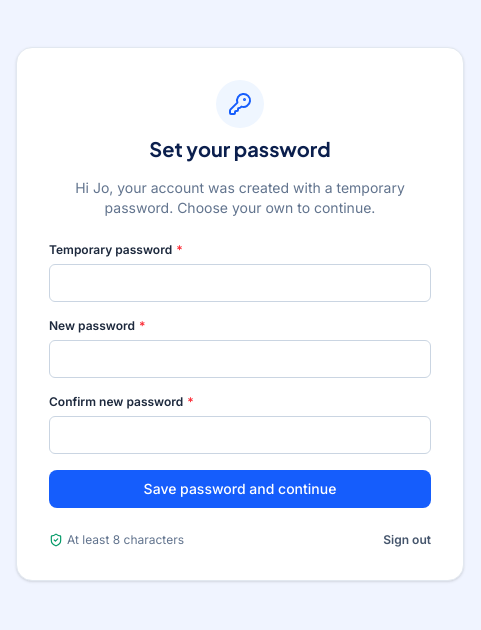
Scenario: ChangePassword page › shows the server's message when the temporary password is wrong
The image size is (481, 630).
Type "wrong-temp" into the 1st password field at (240, 283), box top-left (49, 264), bottom-right (431, 302)
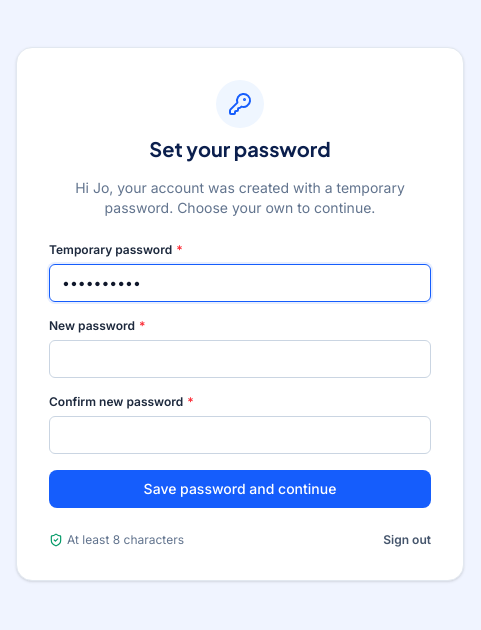
Type "BrandNewPass1" into the 2nd password field at (240, 359), box top-left (49, 340), bottom-right (431, 378)
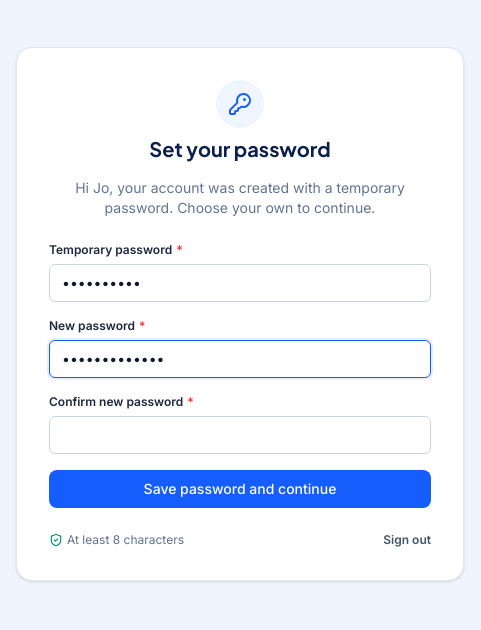
Type "BrandNewPass1" into the password field below "Confirm new password" at (240, 435), box top-left (49, 416), bottom-right (431, 454)
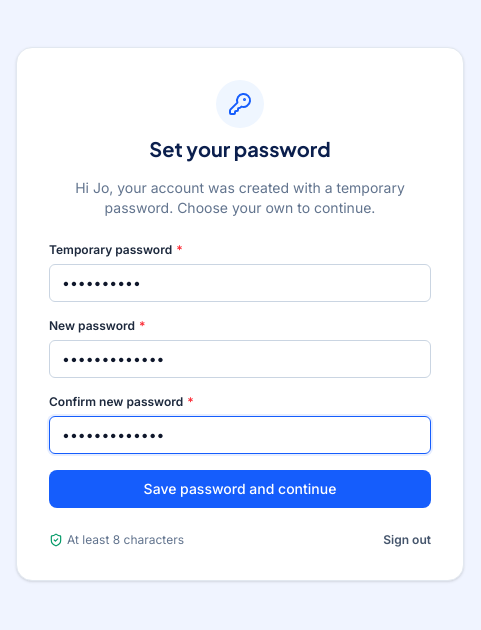
Click the button "Save password and continue" at (240, 489), box top-left (49, 470), bottom-right (431, 508)
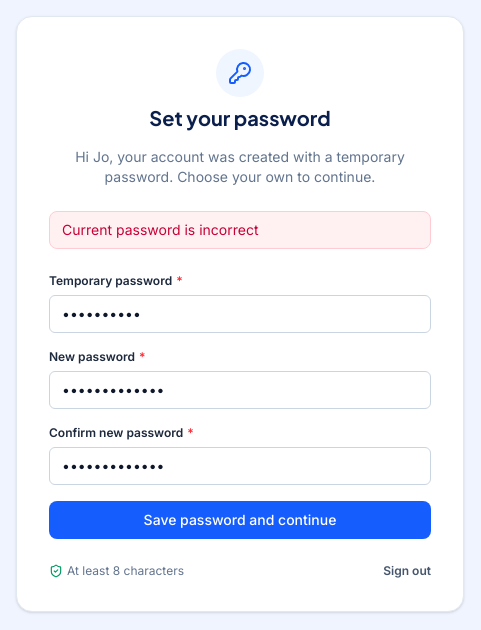
Now the message shows "incorrect", box top-left (62, 221), bottom-right (258, 238)
